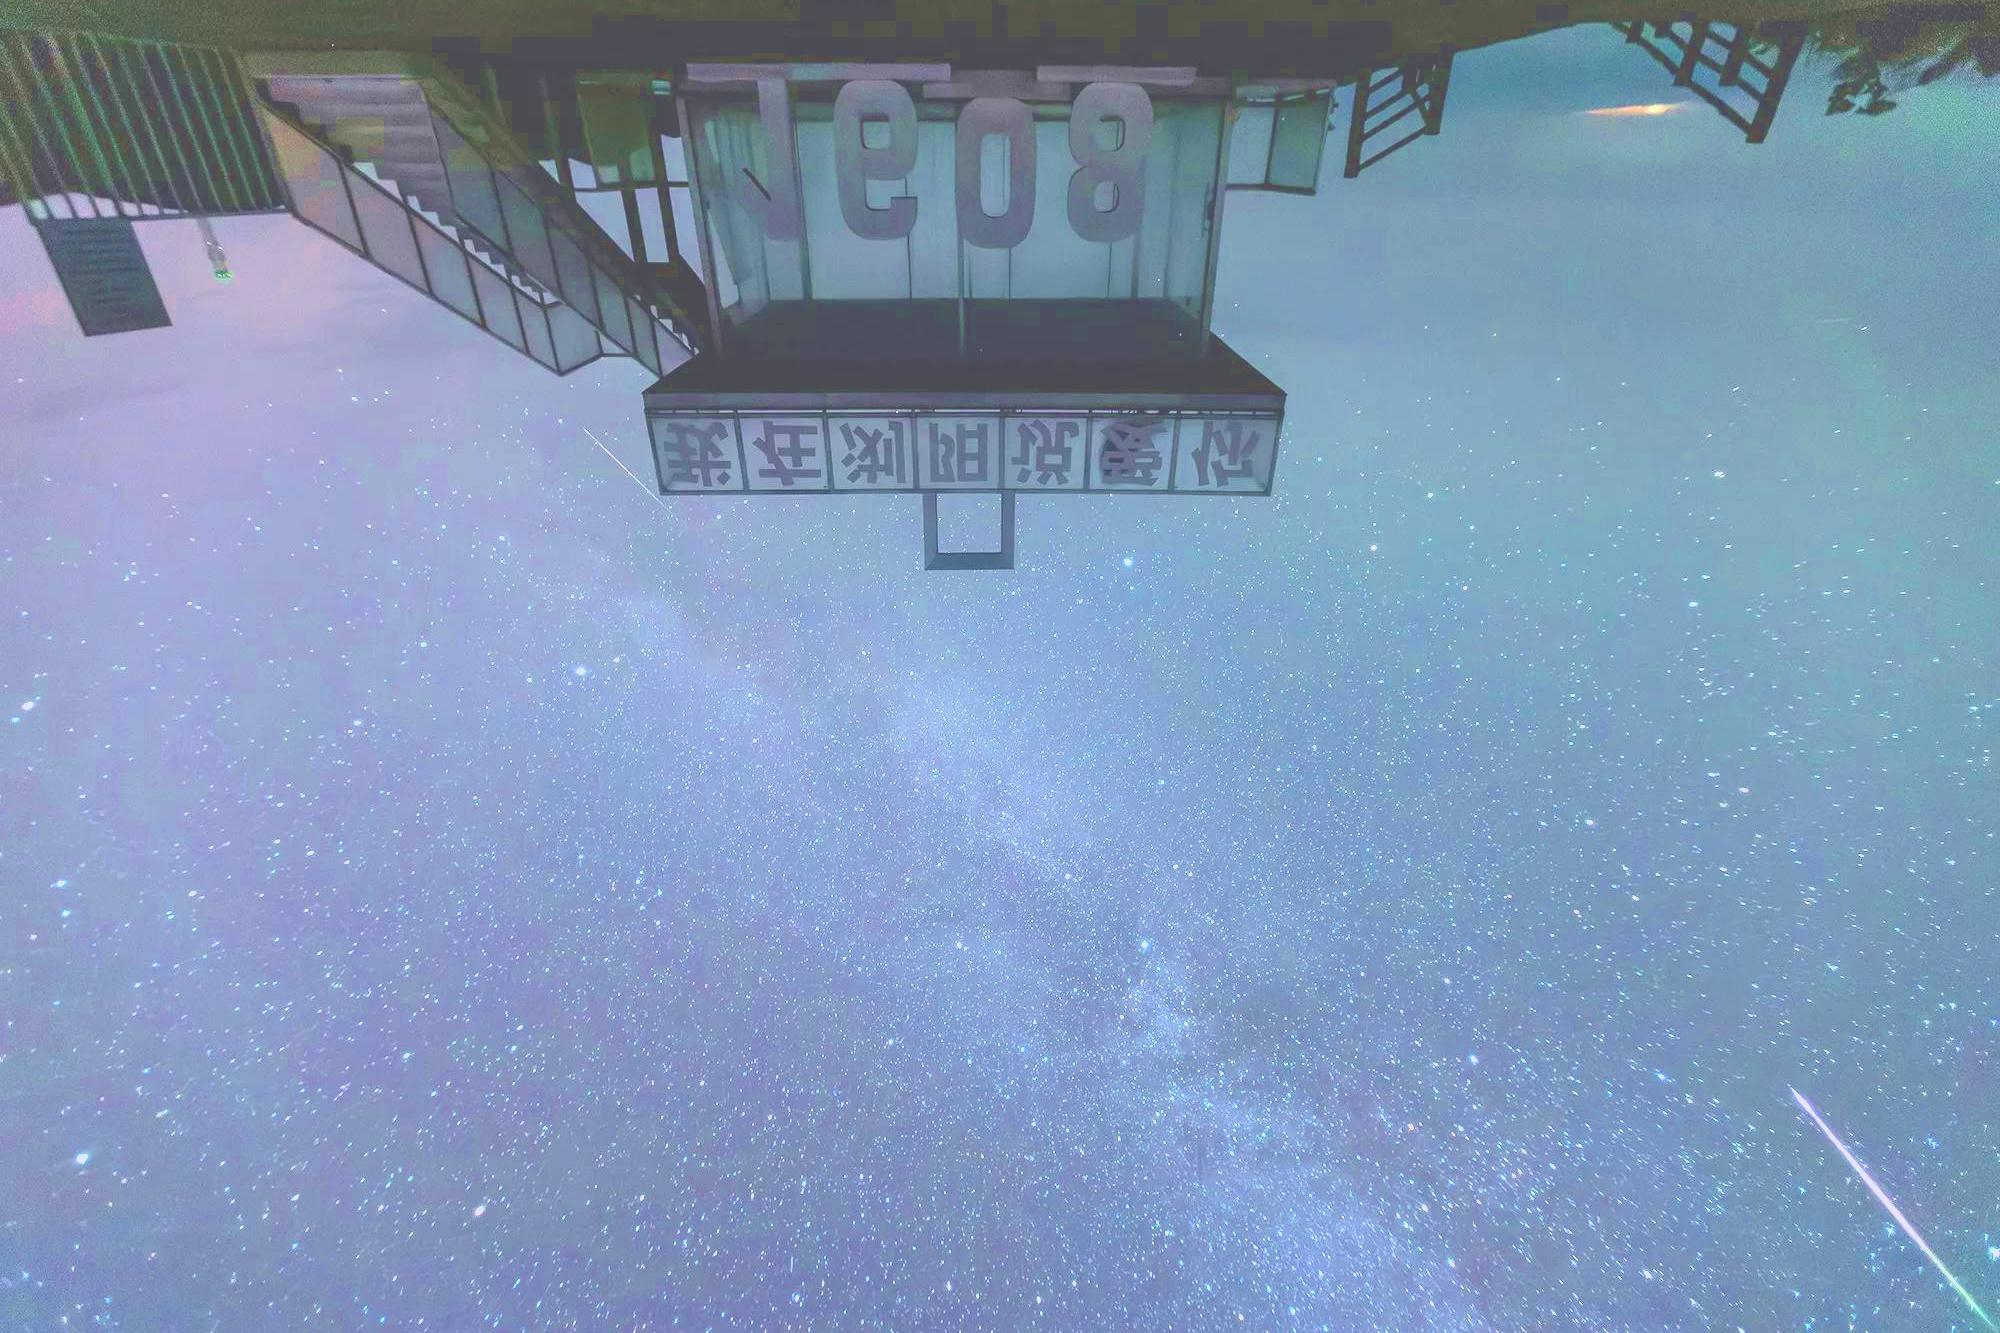meteorite: (1761, 1049, 2000, 1333), (567, 415, 669, 519)
